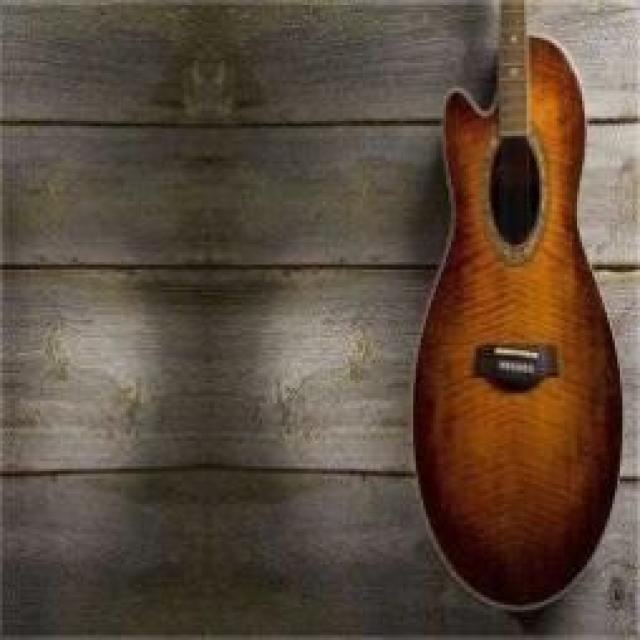acousticguitar: (413, 0, 620, 607)
